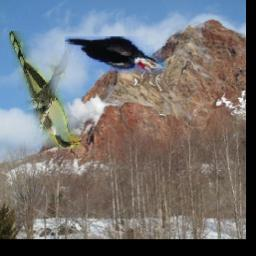Cuckoo: (9, 31, 81, 149)
Woodpecker: (65, 36, 166, 74)
